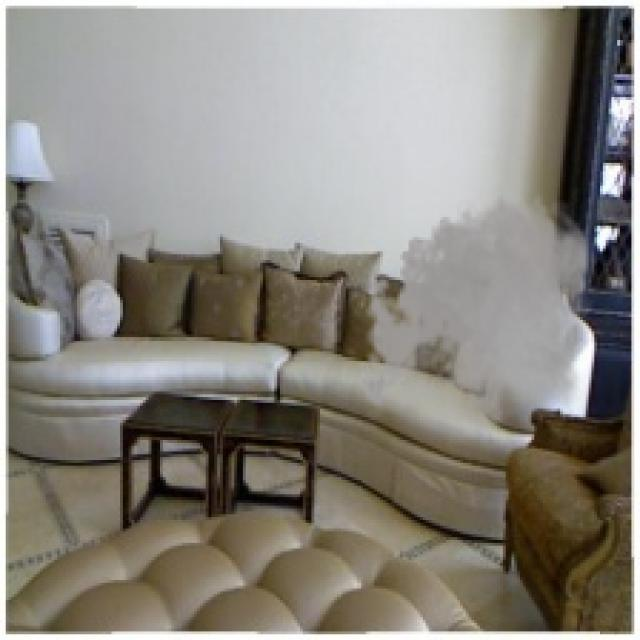smoke: (351, 180, 600, 451)
